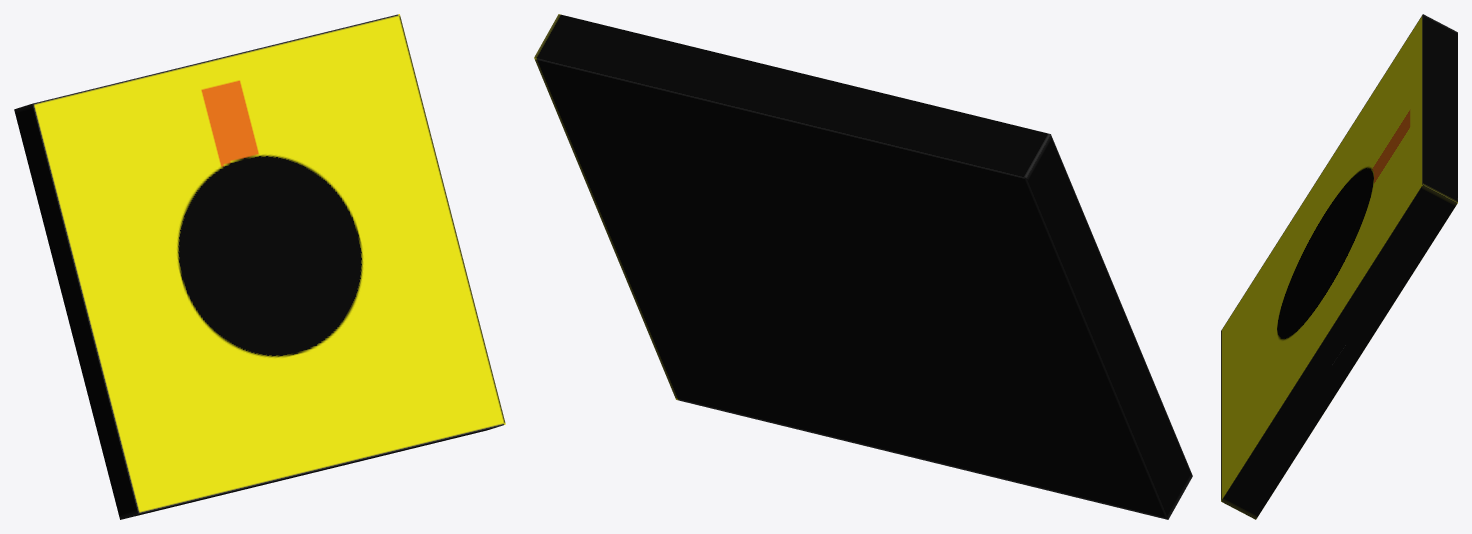
The model's file is item_bomb.fbx.
3 views of the same model, side by side, from view 1: azimuth 30°, elevation 25°; view 2: azimuth 150°, elevation 25°; view 3: azimuth 270°, elevation 25° (orthographic). The views are drawn at different scales.
Parts seen in each view (by area): view 1: Body; view 2: Body; view 3: Body.
Part boxes in pixels (<box>): Body: <box>14,14,505,519</box>; Body: <box>534,14,1192,519</box>; Body: <box>1221,14,1457,519</box>.
Bounding box in the file's own units: 200 × 183 × 117.
